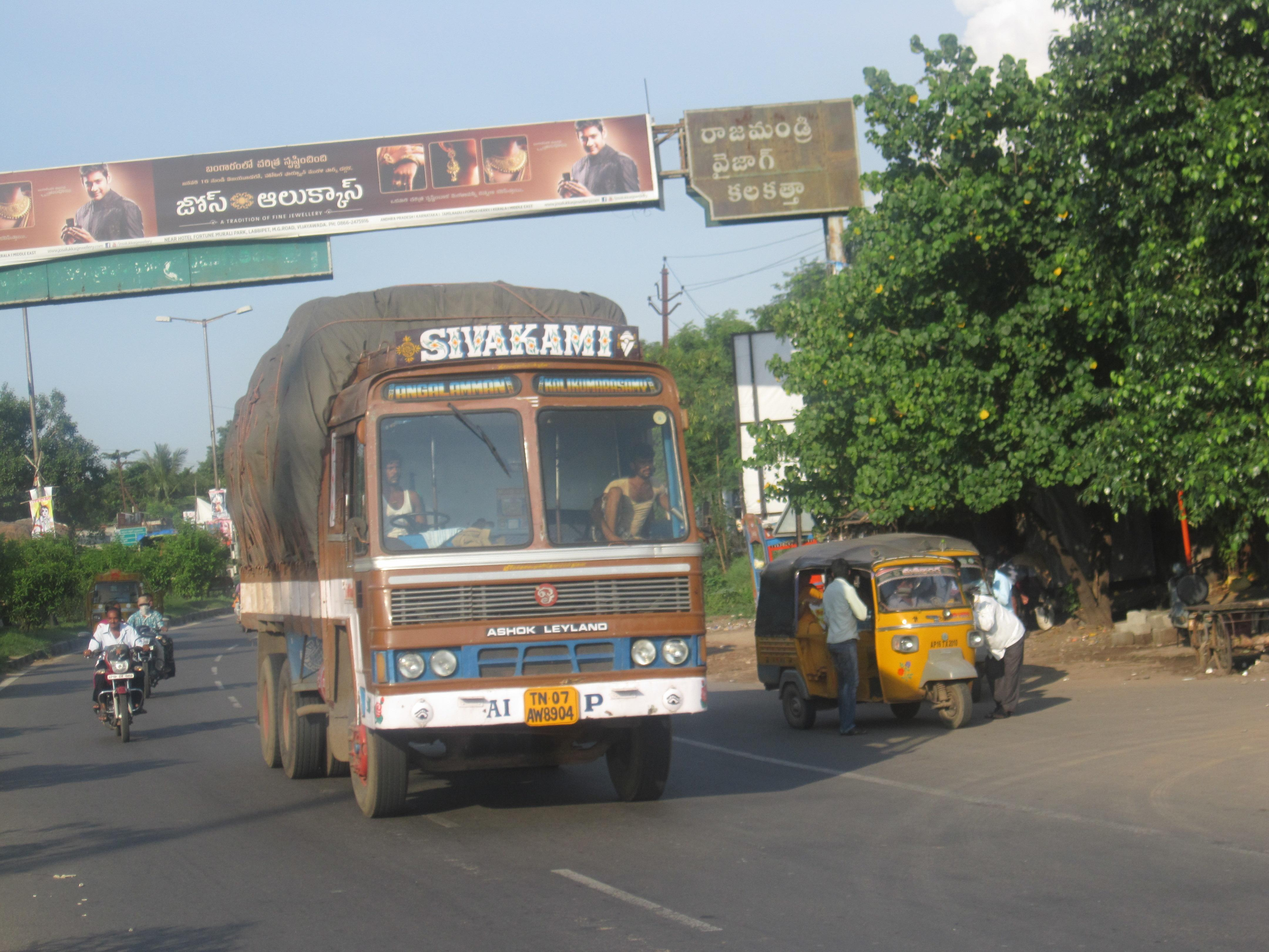truck: (198, 290, 755, 829)
